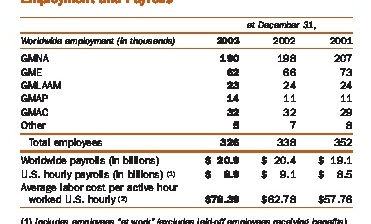table: (0, 0, 371, 224)
